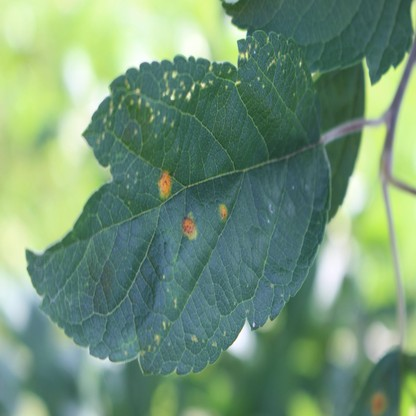rust: (158, 170, 172, 199), (182, 216, 198, 240), (372, 390, 386, 415), (220, 201, 227, 221)
